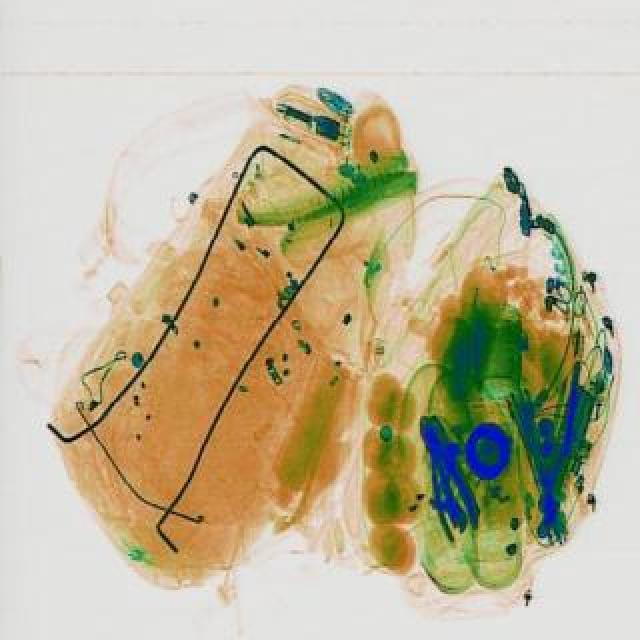wrench: (400, 410, 488, 542)
